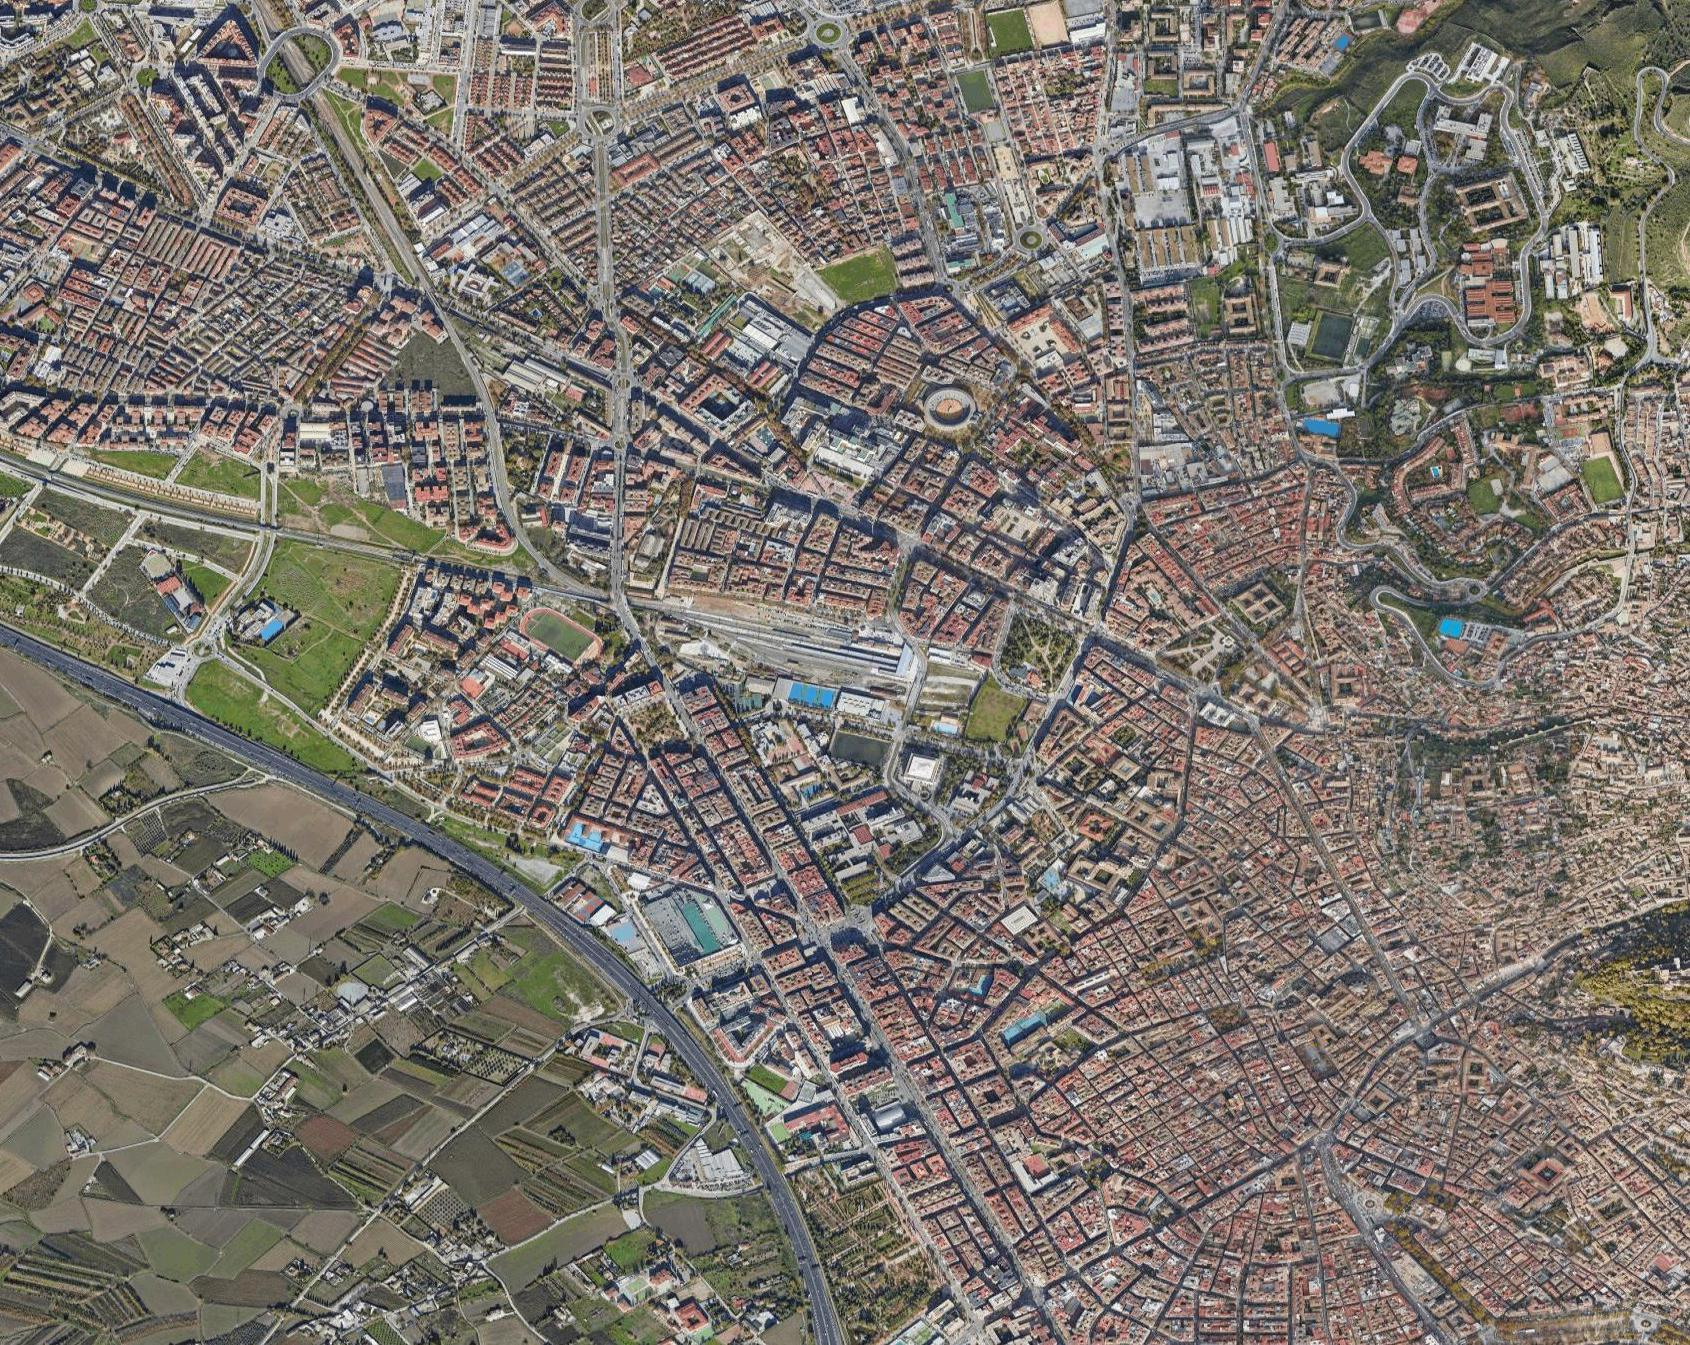motorway: (545, 924, 772, 1180), (1, 630, 294, 778), (283, 781, 575, 929), (752, 1153, 846, 1345)
train_station: (645, 576, 941, 725)
